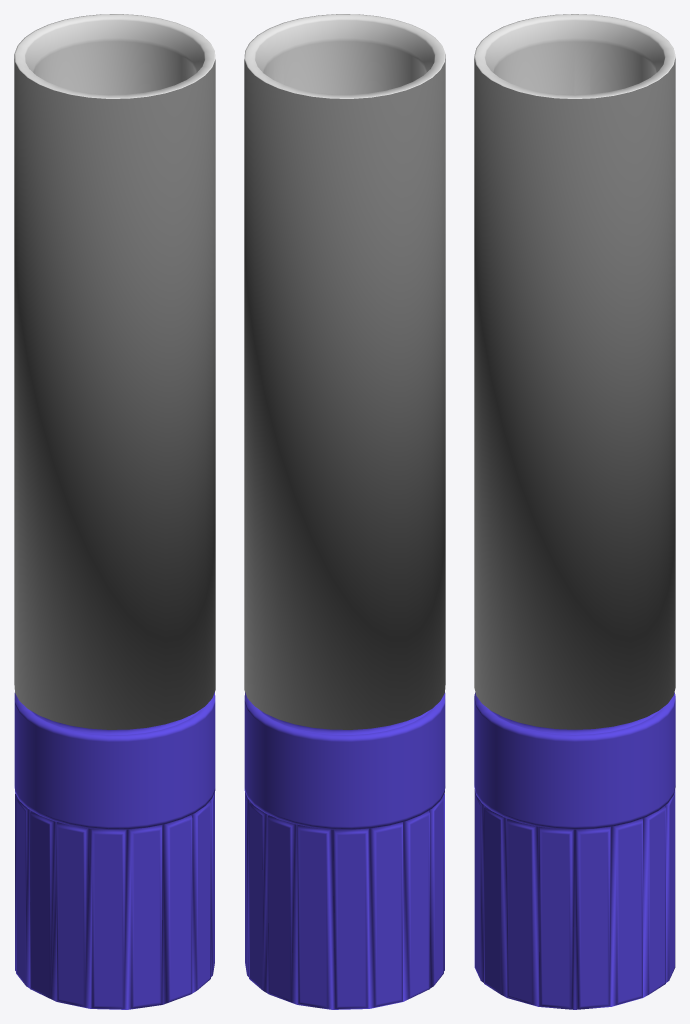
The model's file is CanonCollège.fbx.
The picture shows the model from 3 angles, left to right: view 1: azimuth 30°, elevation 25°; view 2: azimuth 150°, elevation 25°; view 3: azimuth 270°, elevation 25°; orthographic projection.
Parts seen in each view (by area): view 1: Cylinder; view 2: Cylinder; view 3: Cylinder.
Boxes of the visible parts, x1,y1,x2,y2 form: Cylinder: (14, 14, 215, 1009); Cylinder: (244, 14, 445, 1009); Cylinder: (474, 14, 675, 1009).
Size of the model in its own units: 200 by 1000 by 200.
